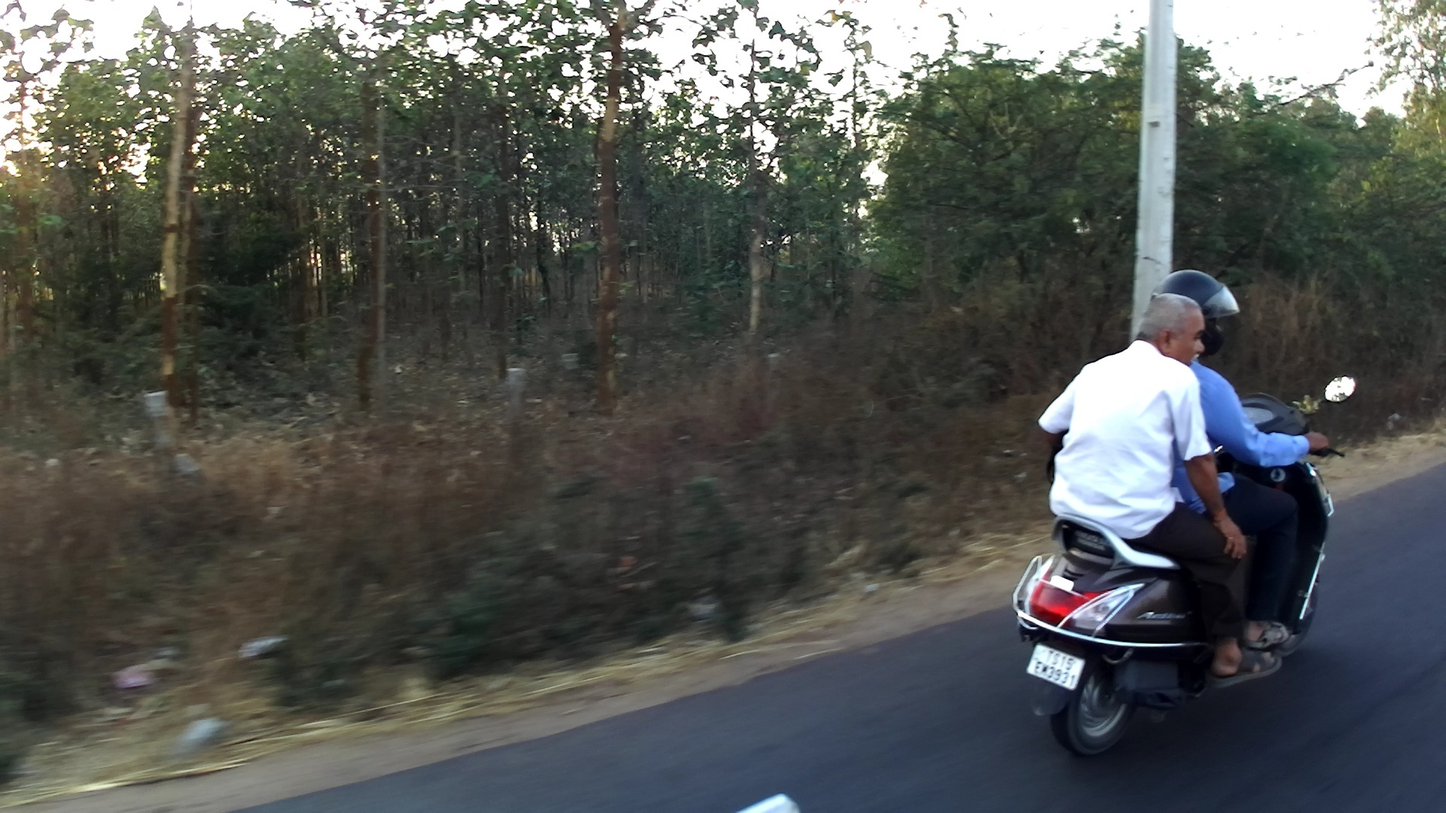car: (1011, 374, 1359, 755)
rider: (1037, 291, 1283, 688), (1152, 269, 1329, 650)
